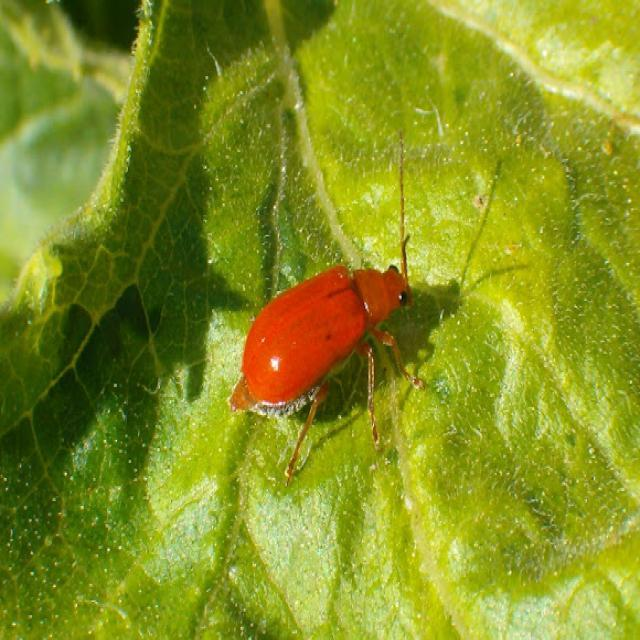Pumpkin Beetle: (226, 116, 430, 490)
